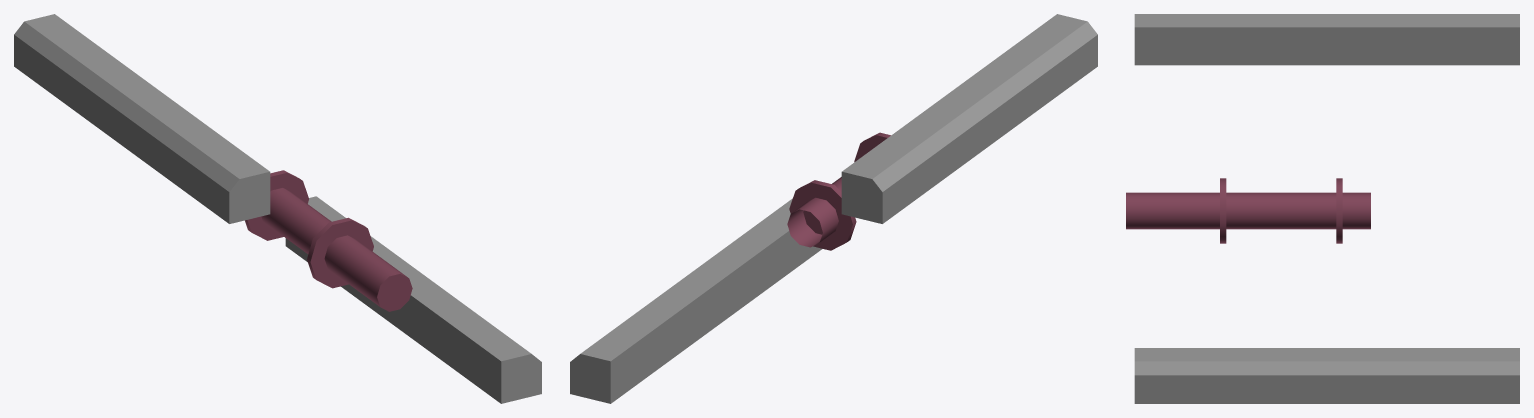
Rendered from mech 2 static lod0.FBX.
3 views of the same model, side by side, from view 1: azimuth 30°, elevation 25°; view 2: azimuth 150°, elevation 25°; view 3: azimuth 270°, elevation 25° (orthographic). The views are drawn at different scales.
Parts seen in each view (by area): view 1: Object039; view 2: Object039; view 3: Object039.
Boxes of the visible parts, x1=… form: Object039: x1=14, y1=14, x2=541, y2=403; Object039: x1=570, y1=14, x2=1097, y2=403; Object039: x1=1126, y1=14, x2=1519, y2=403.
Bounding box in the file's own units: 2.46 × 2.17 × 3.
